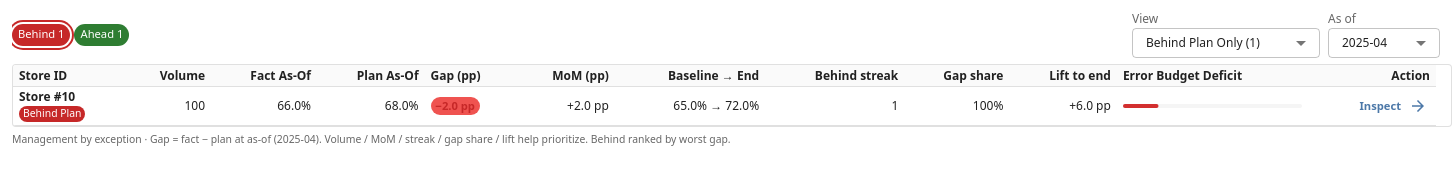
Scenario: AtRiskDeltaTable › switches View filter when Behind / Ahead chips are clicked
Expected: the text "Store #10" is shown, [19, 88, 75, 105]
Expected: the text "Store #20" is not shown
Click the button with test id "atrisk-chip-ahead" at (102,35), box [74, 24, 129, 46]
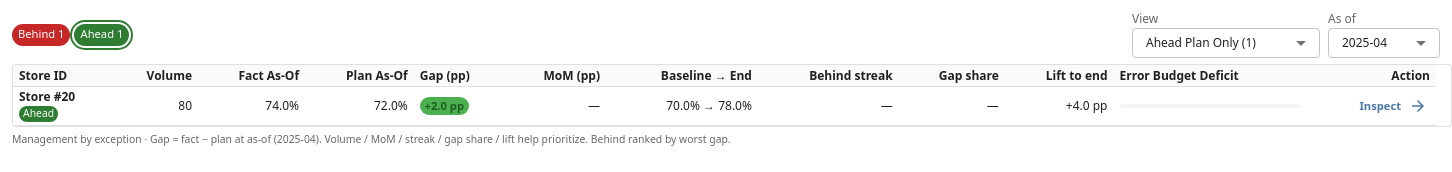
Result: the text "Store #20" is shown at [19, 88, 75, 105]
Result: the text "Store #10" is gone
Click the button with test id "atrisk-chip-behind" at (41,35), box [12, 24, 70, 46]
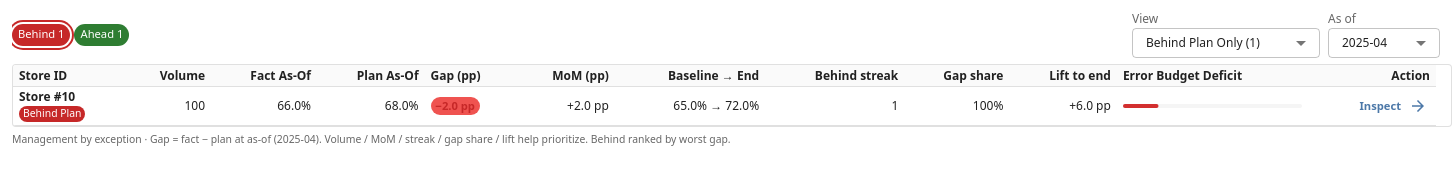
Result: the text "Store #10" is shown at [19, 88, 75, 105]
Result: the text "Store #20" is gone
